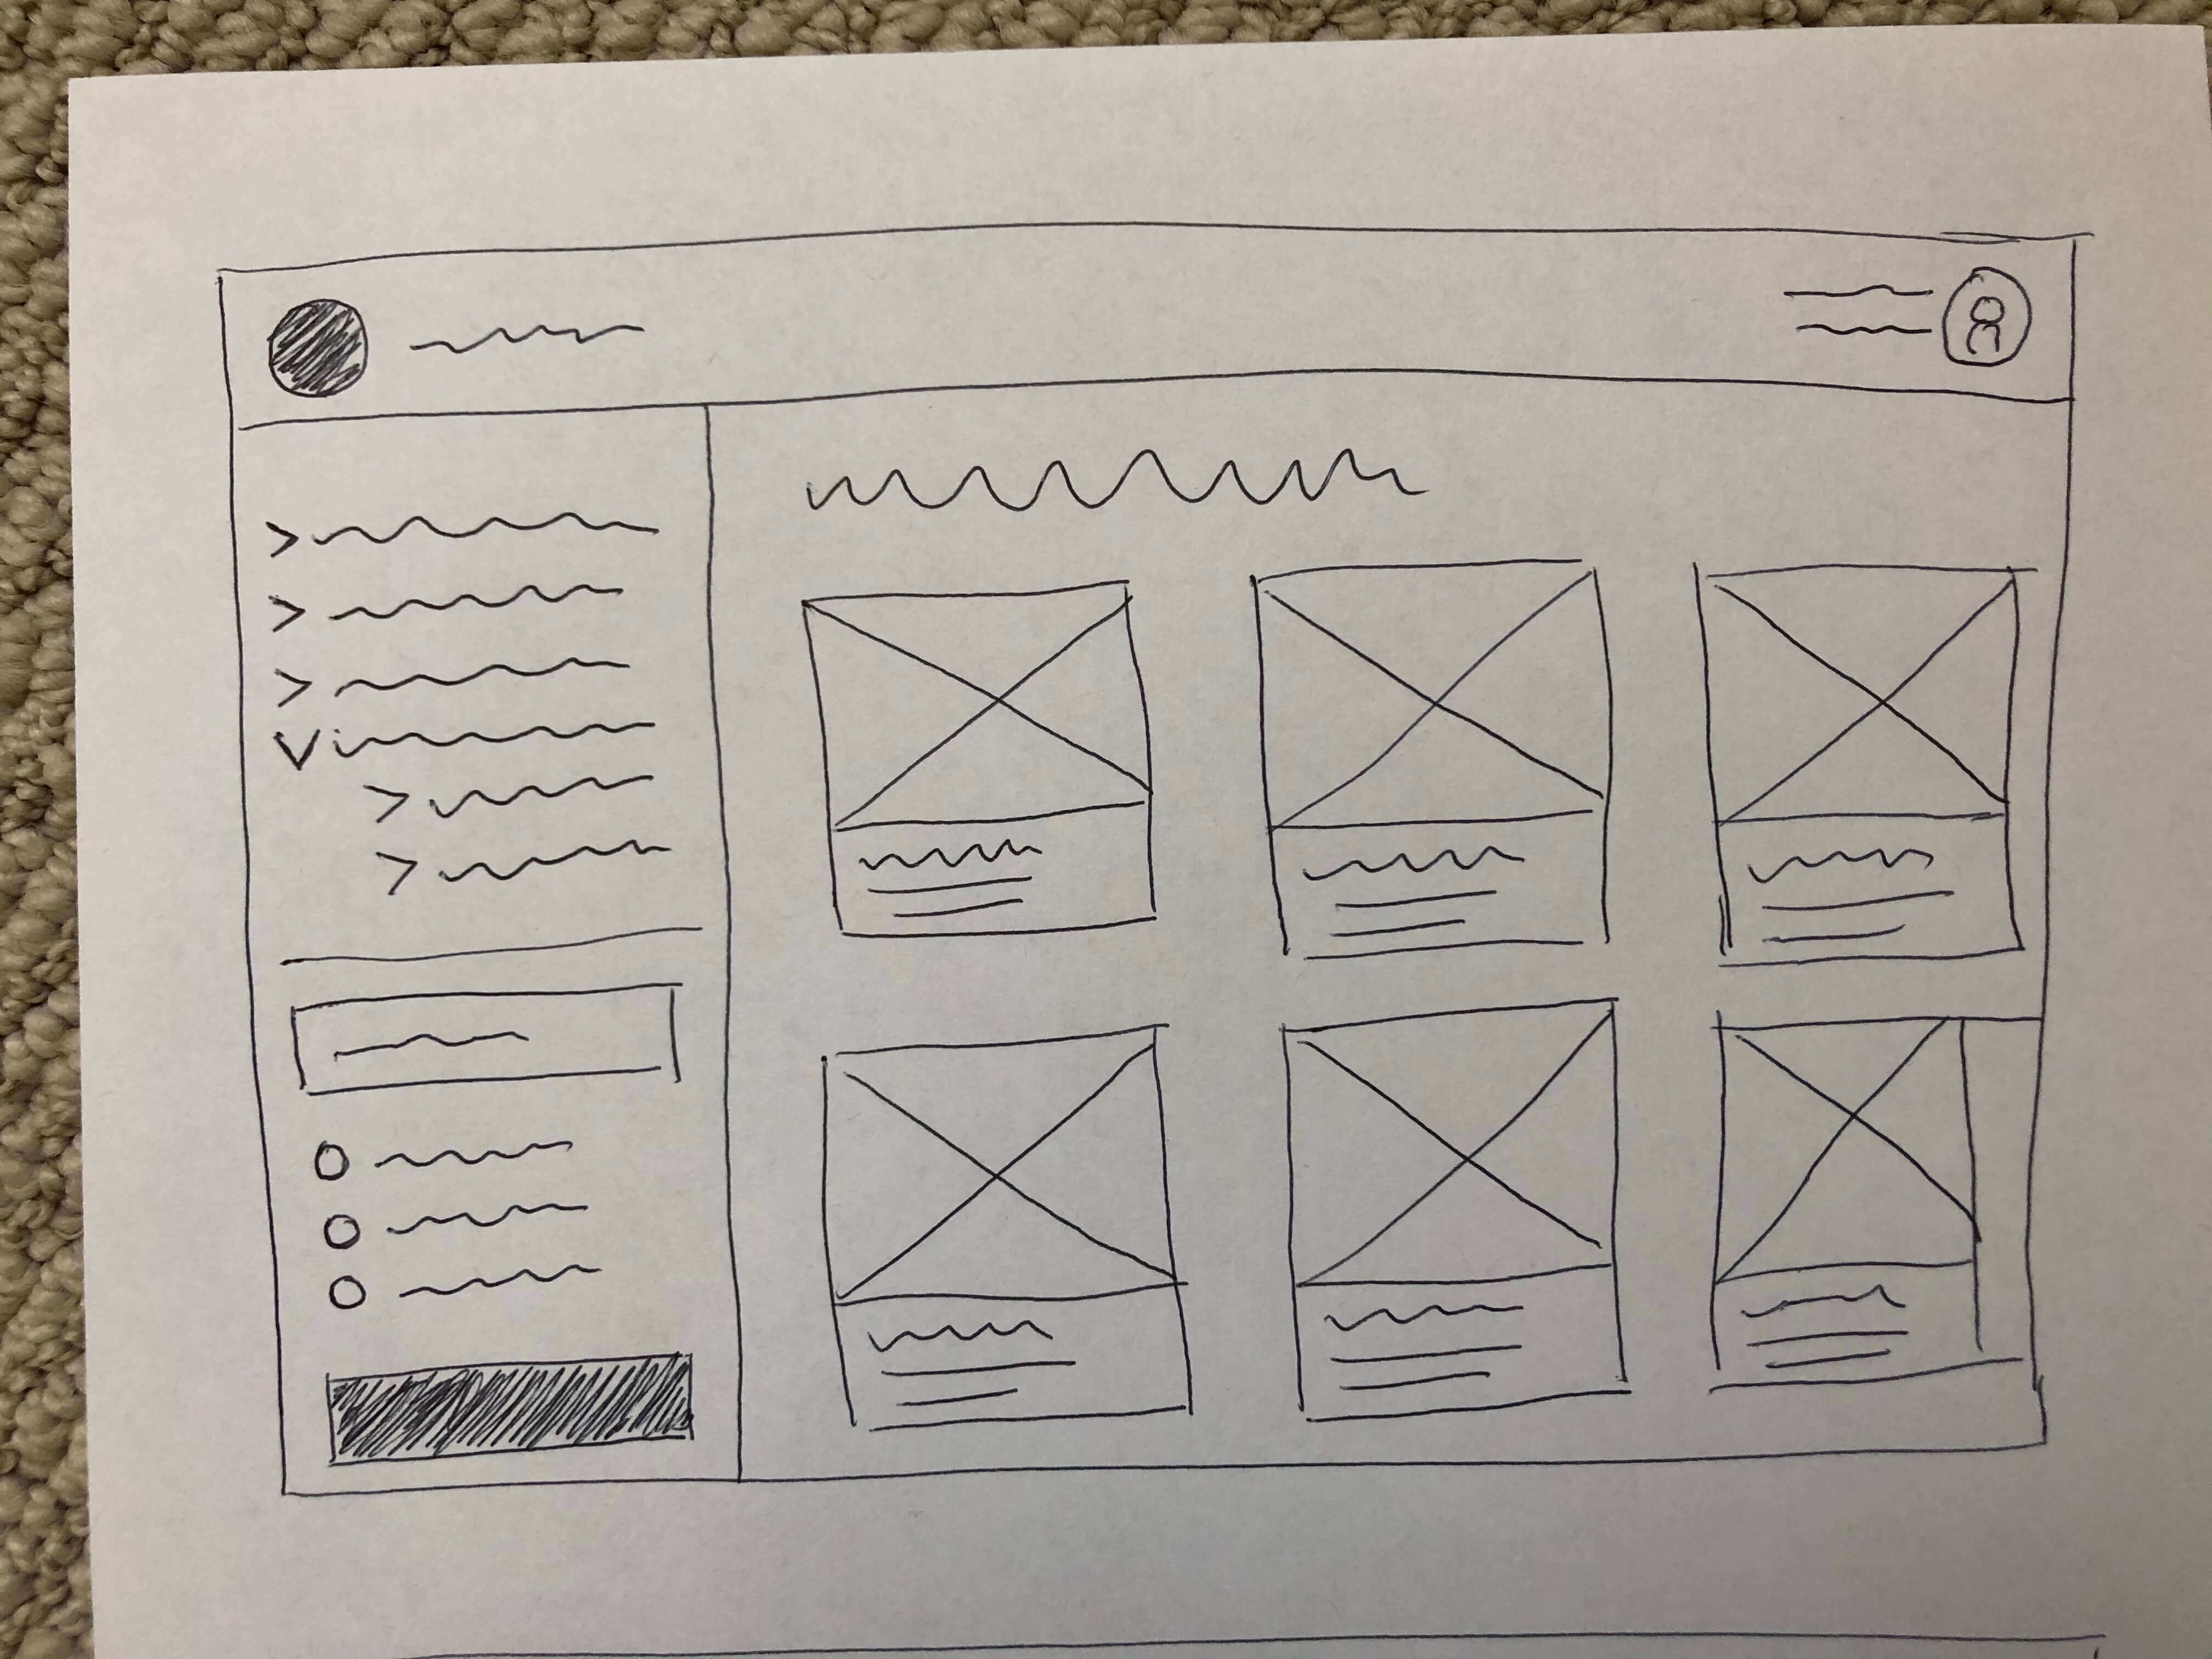avatar: (1775, 256, 2038, 382)
button: (317, 1345, 705, 1473)
card: (1270, 993, 1642, 1445), (808, 1018, 1211, 1434), (1244, 549, 1641, 962), (1684, 551, 2038, 972), (792, 572, 1177, 946), (1709, 1000, 2003, 1408)
input: (284, 981, 681, 1086)
radio-button: (308, 1127, 585, 1190), (320, 1262, 606, 1319), (315, 1199, 597, 1251)
